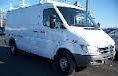front_view: (79, 36, 117, 68)
headlight: (80, 41, 102, 57)
side_glass: (42, 8, 68, 31)
